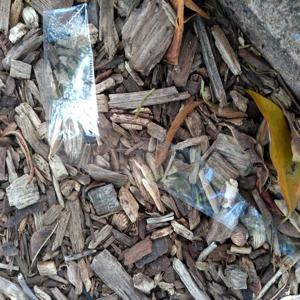plastic: (33, 4, 113, 159), (157, 144, 256, 232)
